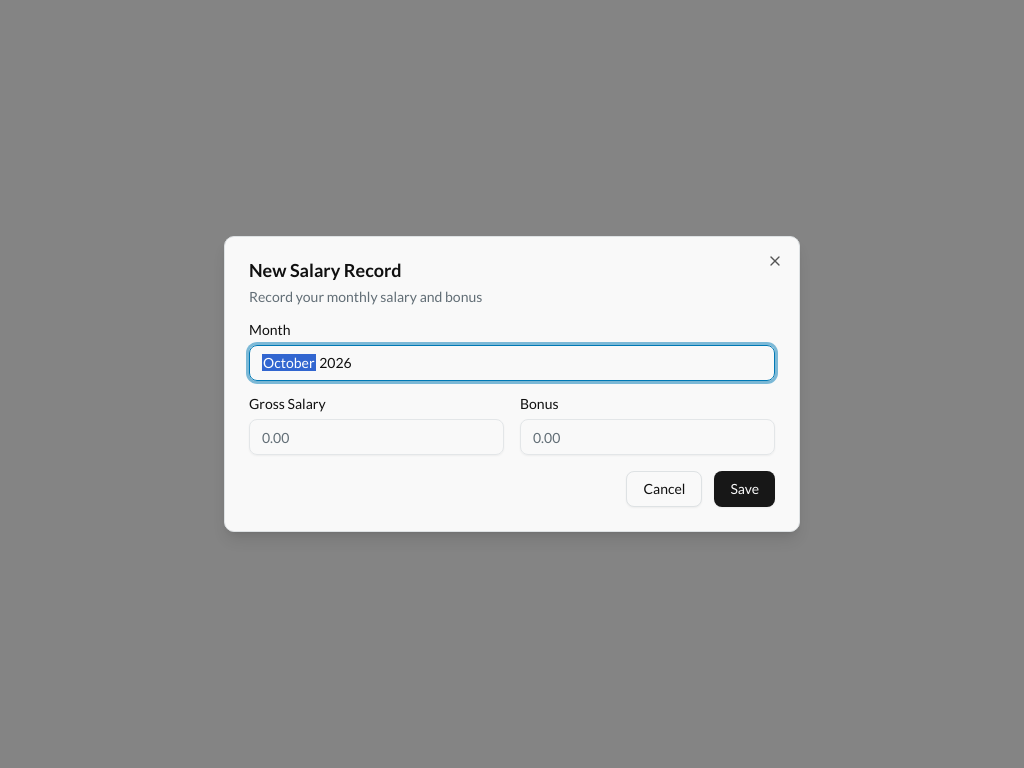
Test case: salary recording through real forms and queries › warns that saving a new record replaces an existing month
Replace the text in the field labelled "Month" with "2026-02" at (512, 363), box [249, 345, 775, 381]
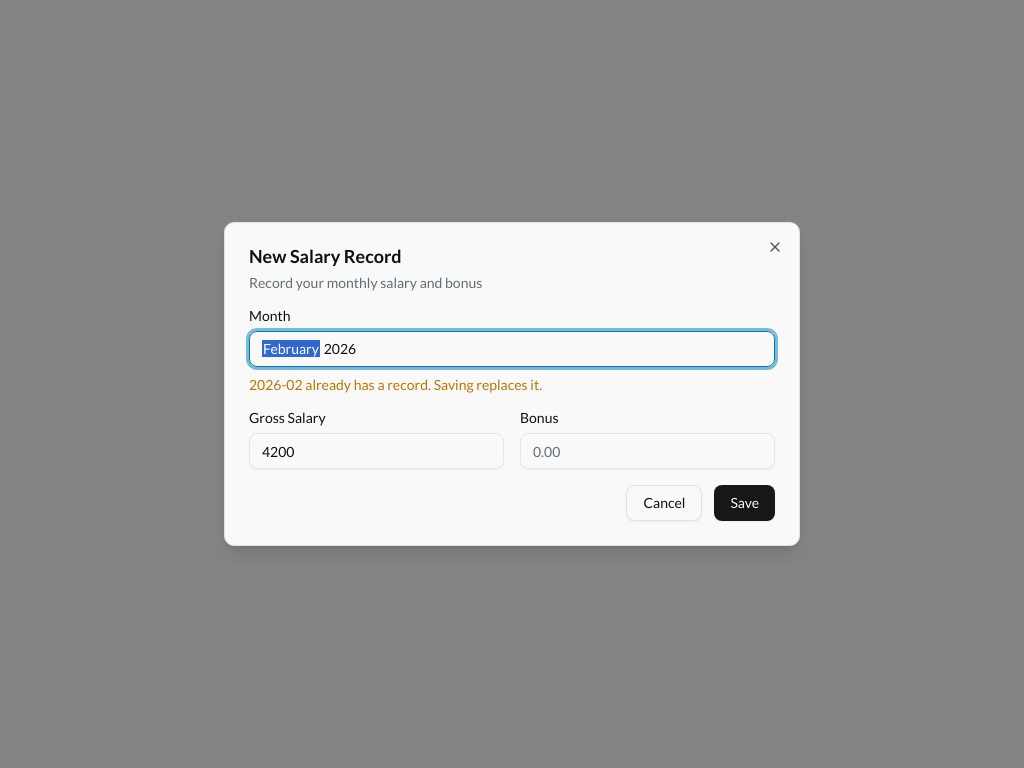
Result: the text "2026-02 already has a record. Saving replaces it." is shown at [249, 376, 542, 393]
Replace the text in the field labelled "Month" with "2026-03" at (512, 349), box [249, 331, 775, 367]
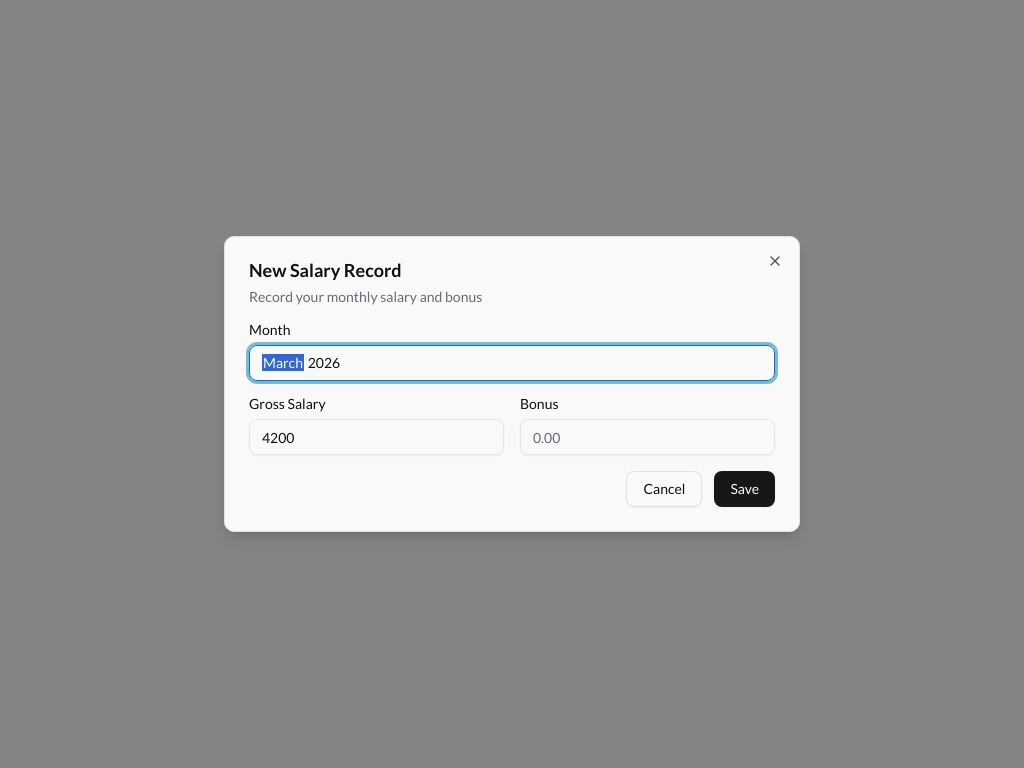
Result: the text "already has a record" is gone
